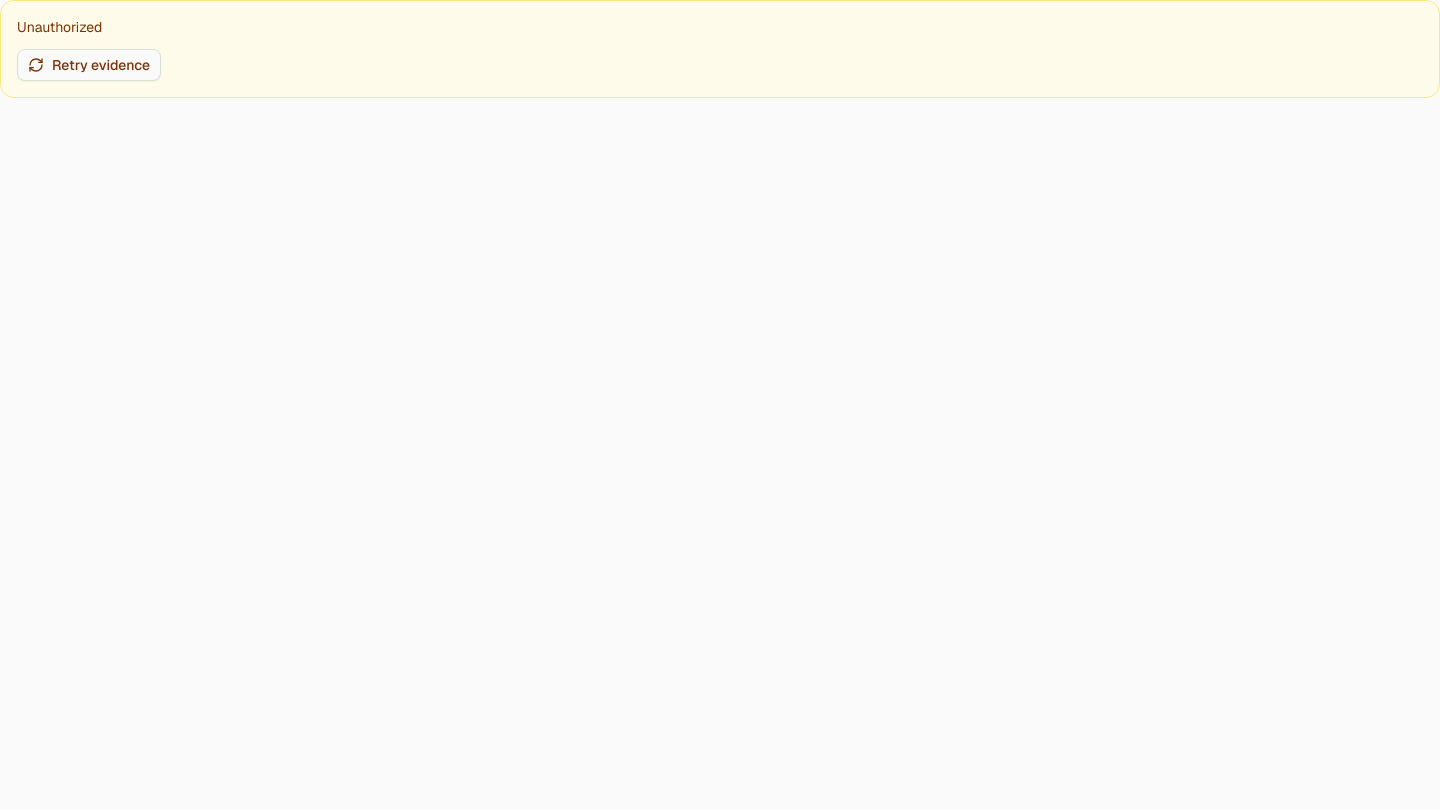
Test: proctor evidence presentation › provides a retry after an authorization or loading failure
The width and height of the screenshot is (1440, 810).
Expected: the message shows "Unauthorized", [17,18,102,36]
Click the button "Retry evidence". click: (89, 65)
box: [17,49,161,81]
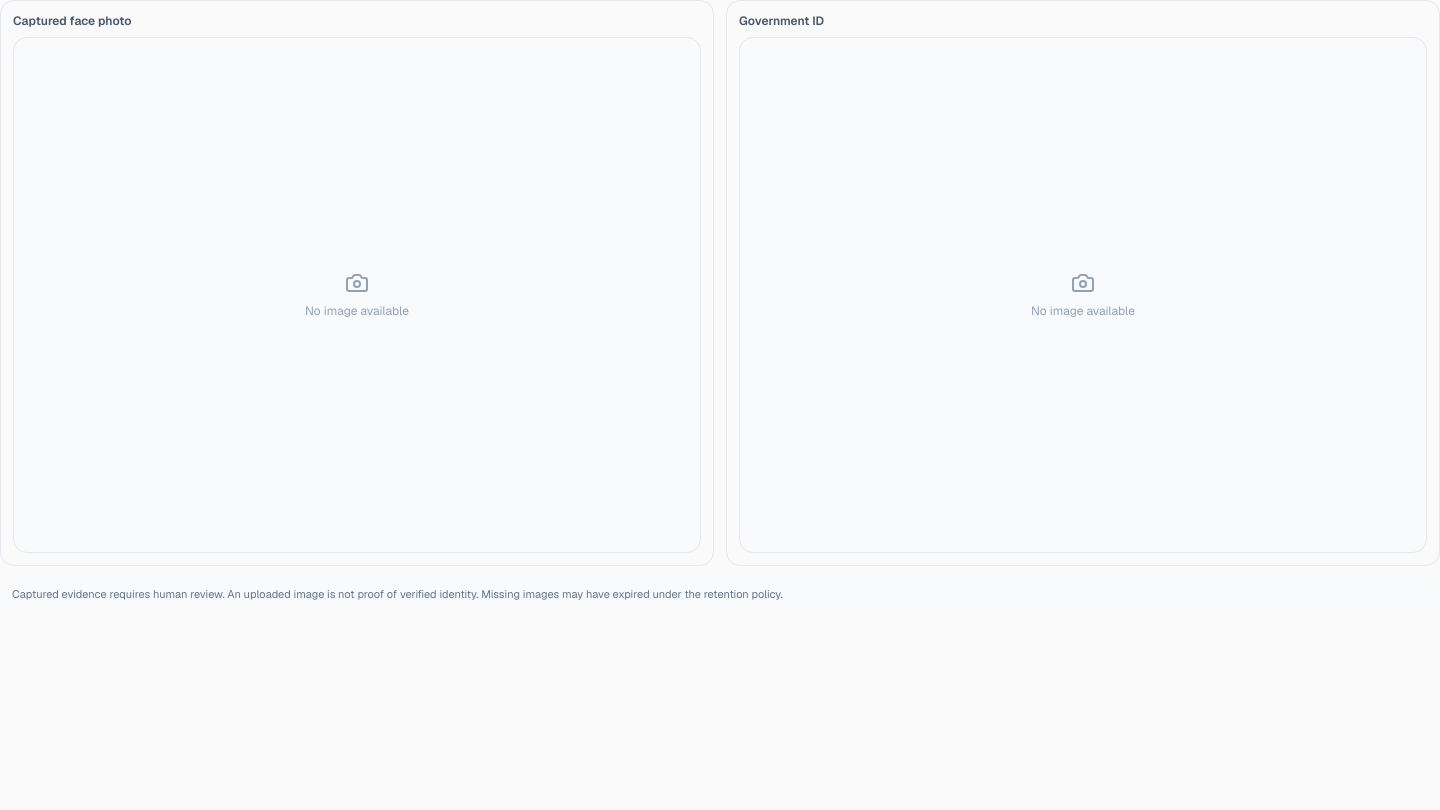
Result: the message "Unauthorized Retry evidence" is gone
